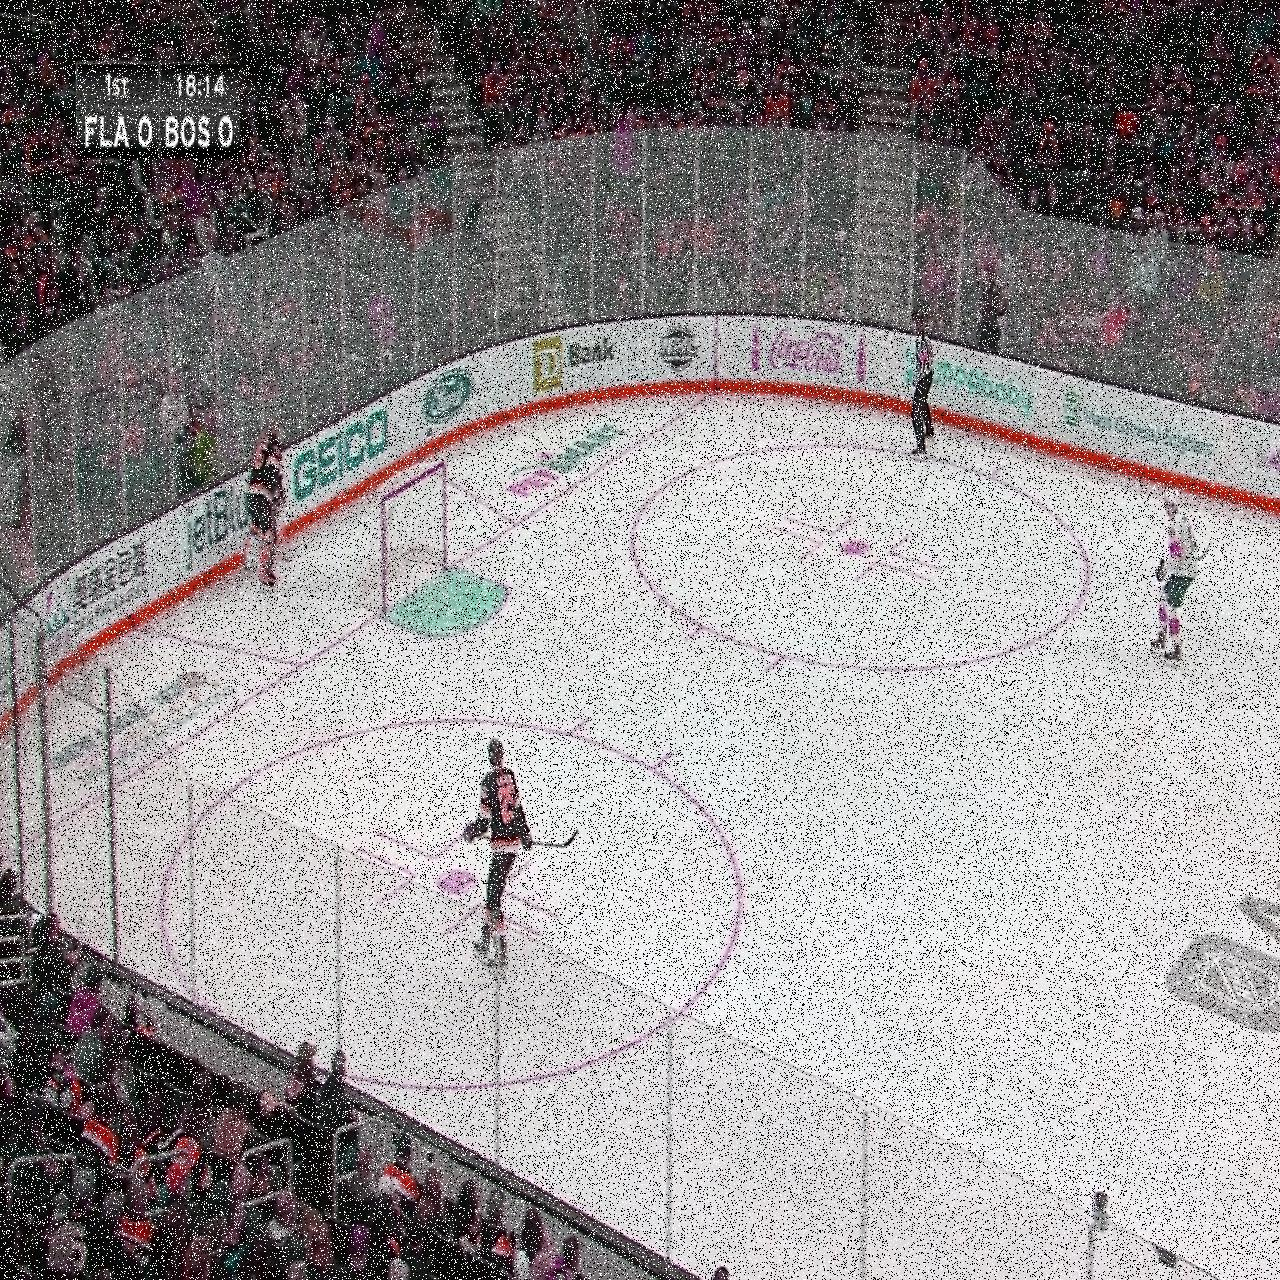Ad: (52, 663, 241, 813), (1062, 381, 1220, 471), (43, 533, 148, 658), (506, 415, 627, 510), (906, 339, 1033, 425), (295, 403, 394, 512), (749, 325, 873, 390), (181, 479, 252, 576), (524, 325, 615, 399), (421, 362, 478, 429), (647, 320, 709, 377)
